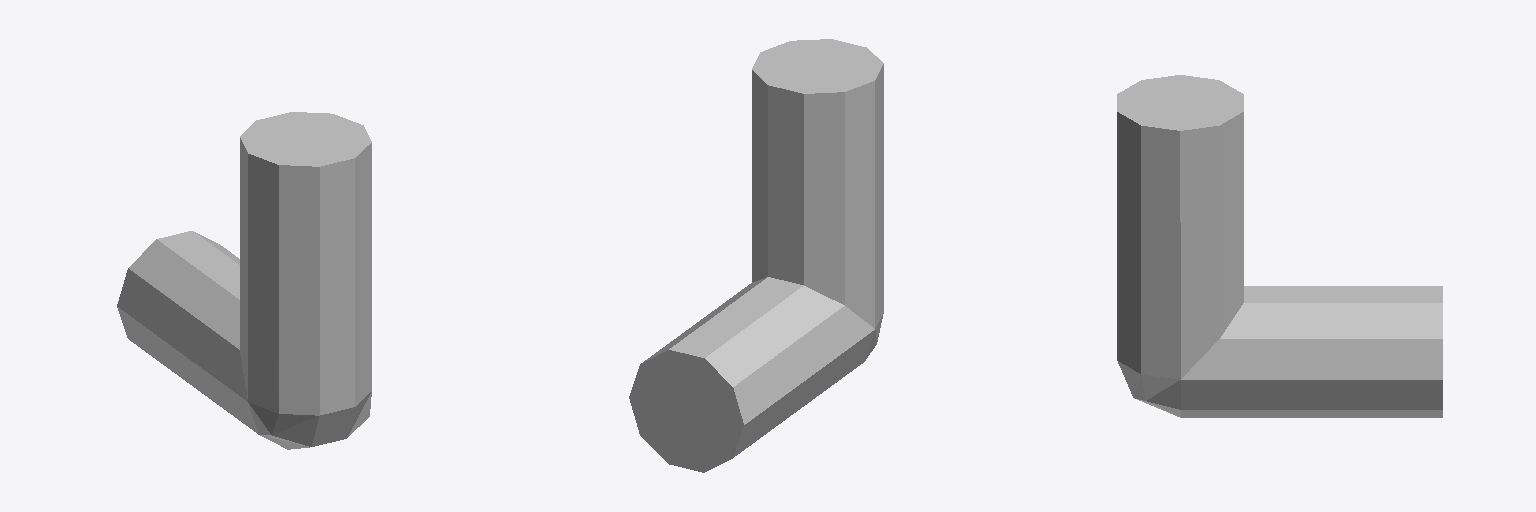
File: pipe_ninety_degree.obj
3 views of the same model, side by side, from view 1: azimuth 30°, elevation 25°; view 2: azimuth 150°, elevation 25°; view 3: azimuth 270°, elevation 25° (orthographic).
Parts seen in each view (by area): view 1: pipe_ninety_degree; view 2: pipe_ninety_degree; view 3: pipe_ninety_degree.
Part boxes in pixels (x1,y1,x2,y2): pipe_ninety_degree: (117,112,371,449); pipe_ninety_degree: (629,39,883,472); pipe_ninety_degree: (1117,75,1442,417).
Bounding box in the file's own units: 1.06 × 2.69 × 2.59.